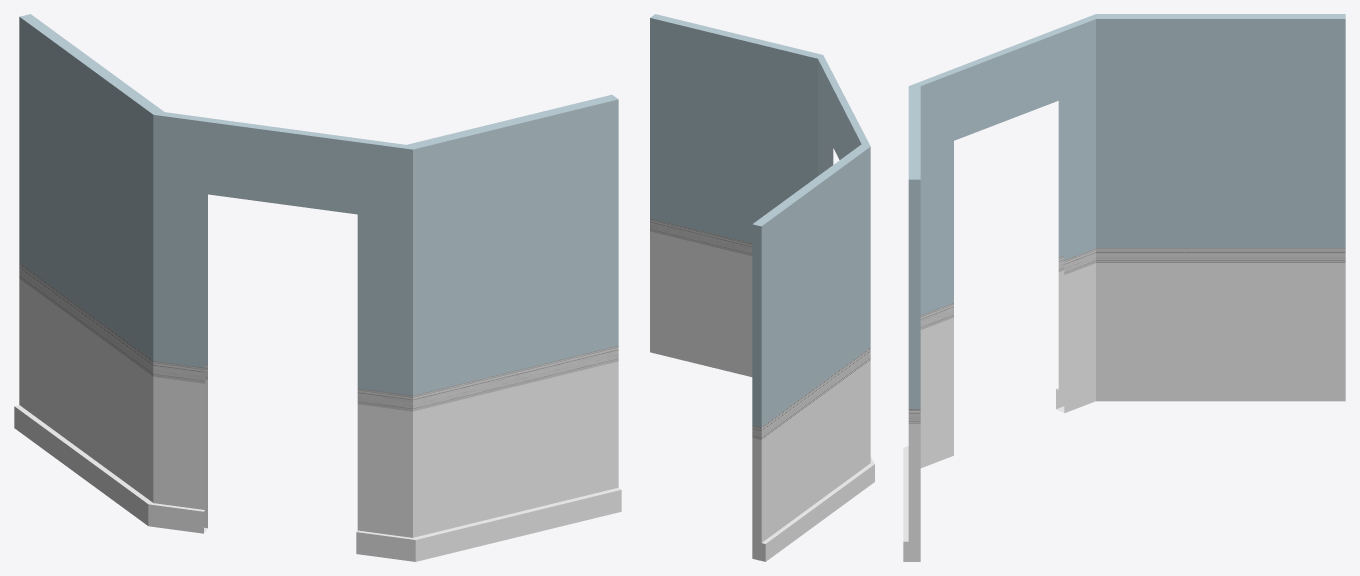
File: Bath wall.FBX
3 views of the same model, side by side, from view 1: azimuth 30°, elevation 25°; view 2: azimuth 150°, elevation 25°; view 3: azimuth 270°, elevation 25° (orthographic). The views are drawn at different scales.
Visible parts, largest first — view 1: bath wall; view 2: bath wall; view 3: bath wall.
Boxes of the visible parts, x1=… form: bath wall: x1=14, y1=14, x2=621, y2=561; bath wall: x1=650, y1=14, x2=874, y2=561; bath wall: x1=903, y1=14, x2=1345, y2=561.
Size of the model in its own units: 293 by 311 by 326.
2 materials, 1 textured.
